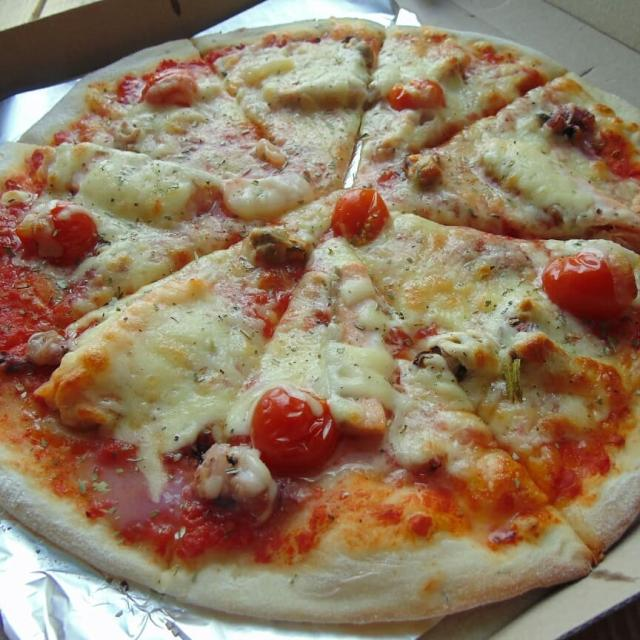pizza: (0, 13, 640, 640)
tomatoes: (255, 388, 341, 468), (544, 256, 638, 319), (15, 200, 100, 267), (330, 188, 392, 248), (385, 78, 449, 118), (138, 68, 198, 110)
